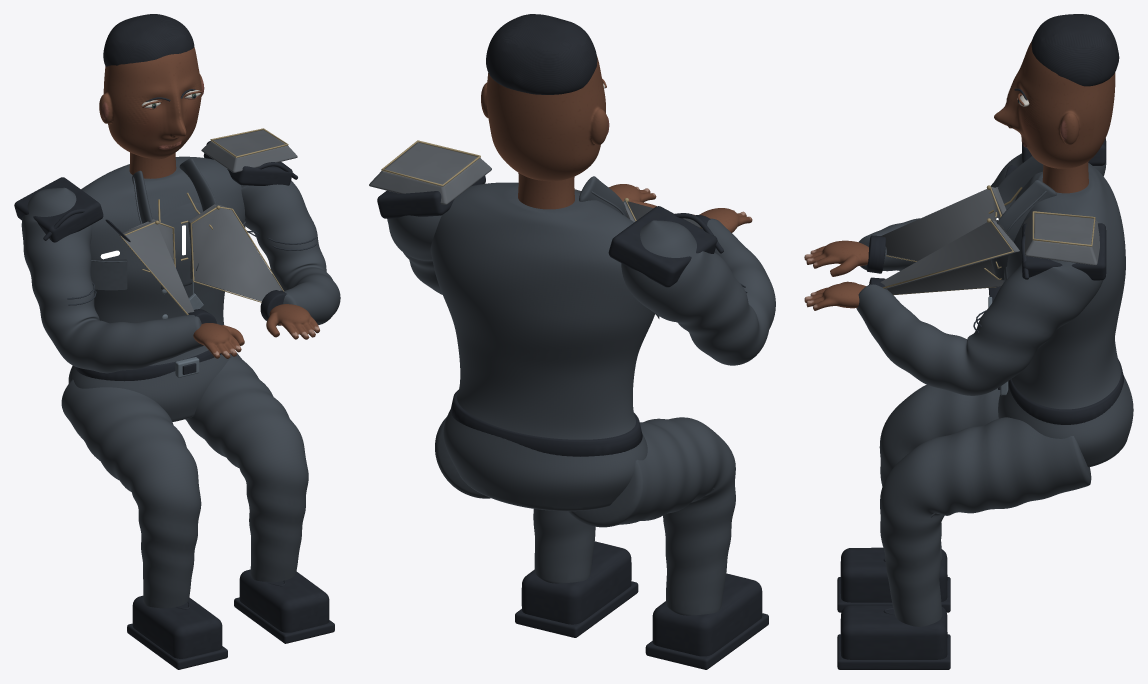
File: sentinel.gltf
3 renders of one model, left to right at view 1: azimuth 30°, elevation 25°; view 2: azimuth 150°, elevation 25°; view 3: azimuth 270°, elevation 25°, orthographic. The views are drawn at different scales.
Parts seen in each view (by area): view 1: council-asset-7-sentinel_Fabric, council-asset-7-sentinel_Leather, Oni Metal tailoring, sculpted-head_Skin, council-asset-7-sentinel_Skin, sculpted-head_Hair, council-asset-7-sentinel_Metal; view 2: council-asset-7-sentinel_Fabric, council-asset-7-sentinel_Leather, sculpted-head_Skin, sculpted-head_Hair, Oni Metal tailoring, council-asset-7-sentinel_Skin; view 3: council-asset-7-sentinel_Fabric, council-asset-7-sentinel_Leather, Oni Metal tailoring, sculpted-head_Skin, sculpted-head_Hair, council-asset-7-sentinel_Skin.
Part boxes in pixels (bbox=[...]): council-asset-7-sentinel_Fabric: bbox=[21, 156, 340, 608]; council-asset-7-sentinel_Leather: bbox=[14, 141, 334, 669]; Oni Metal tailoring: bbox=[119, 128, 297, 314]; sculpted-head_Skin: bbox=[99, 47, 204, 159]; council-asset-7-sentinel_Skin: bbox=[129, 152, 319, 358]; sculpted-head_Hair: bbox=[103, 14, 194, 66]; council-asset-7-sentinel_Metal: bbox=[161, 280, 203, 377]; council-asset-7-sentinel_Fabric: bbox=[387, 176, 775, 615]; council-asset-7-sentinel_Leather: bbox=[377, 175, 768, 669]; sculpted-head_Skin: bbox=[481, 56, 609, 181]; sculpted-head_Hair: bbox=[486, 14, 597, 94]; Oni Metal tailoring: bbox=[369, 140, 702, 228]; council-asset-7-sentinel_Skin: bbox=[518, 173, 752, 232]; council-asset-7-sentinel_Fabric: bbox=[856, 153, 1133, 626]; council-asset-7-sentinel_Leather: bbox=[837, 138, 1124, 669]; Oni Metal tailoring: bbox=[880, 185, 1099, 295]; sculpted-head_Skin: bbox=[994, 41, 1115, 168]; sculpted-head_Hair: bbox=[1031, 14, 1119, 86]; council-asset-7-sentinel_Skin: bbox=[804, 161, 1088, 310].
Size of what is drawn, in the model's own units: 1.07 by 2.07 by 1.02.
7 materials, 5 textured.
